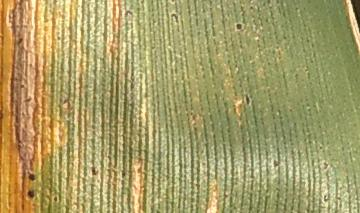tarspot: (24, 169, 38, 183), (24, 187, 37, 200), (88, 164, 99, 177), (170, 11, 180, 25), (271, 157, 282, 169), (319, 160, 331, 171), (22, 94, 33, 105), (122, 9, 134, 19), (322, 191, 331, 203), (244, 93, 251, 108), (233, 22, 243, 32), (51, 194, 60, 203), (17, 35, 24, 46), (120, 169, 127, 178), (168, 1, 177, 5)
